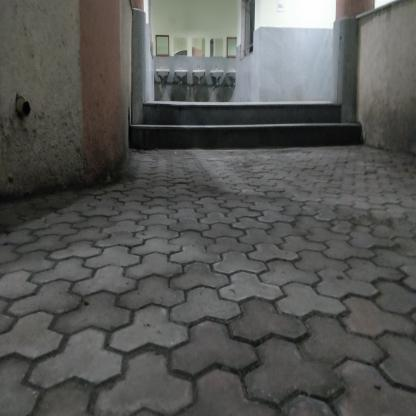stairs: (147, 102, 342, 152)
